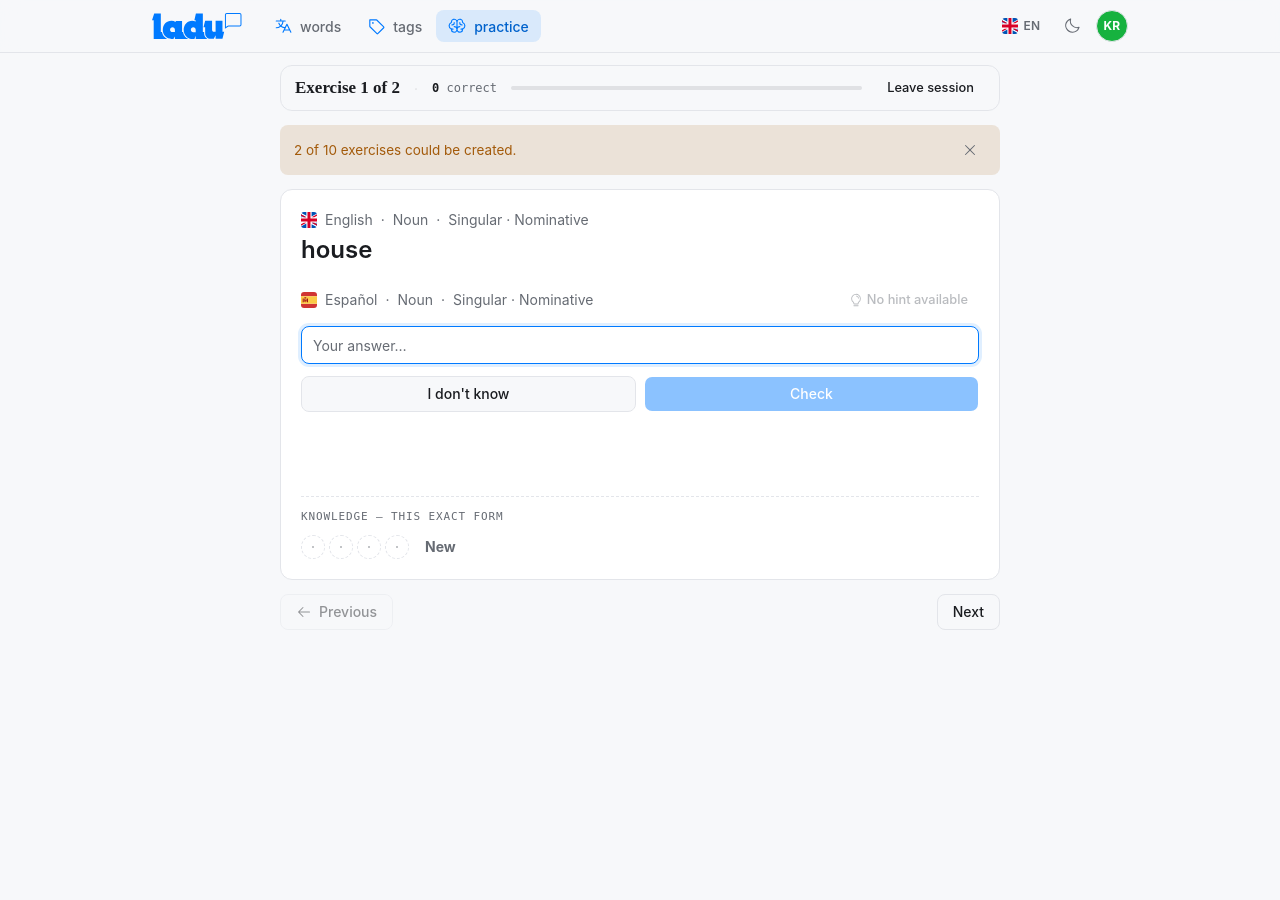
SessionView — typed answers › marks a correct answer, saves it, and moves focus to Next
Type "casa" into the field labelled "Your answer" at (640, 345), box left=302, top=327, right=978, bottom=363
Then press Enter
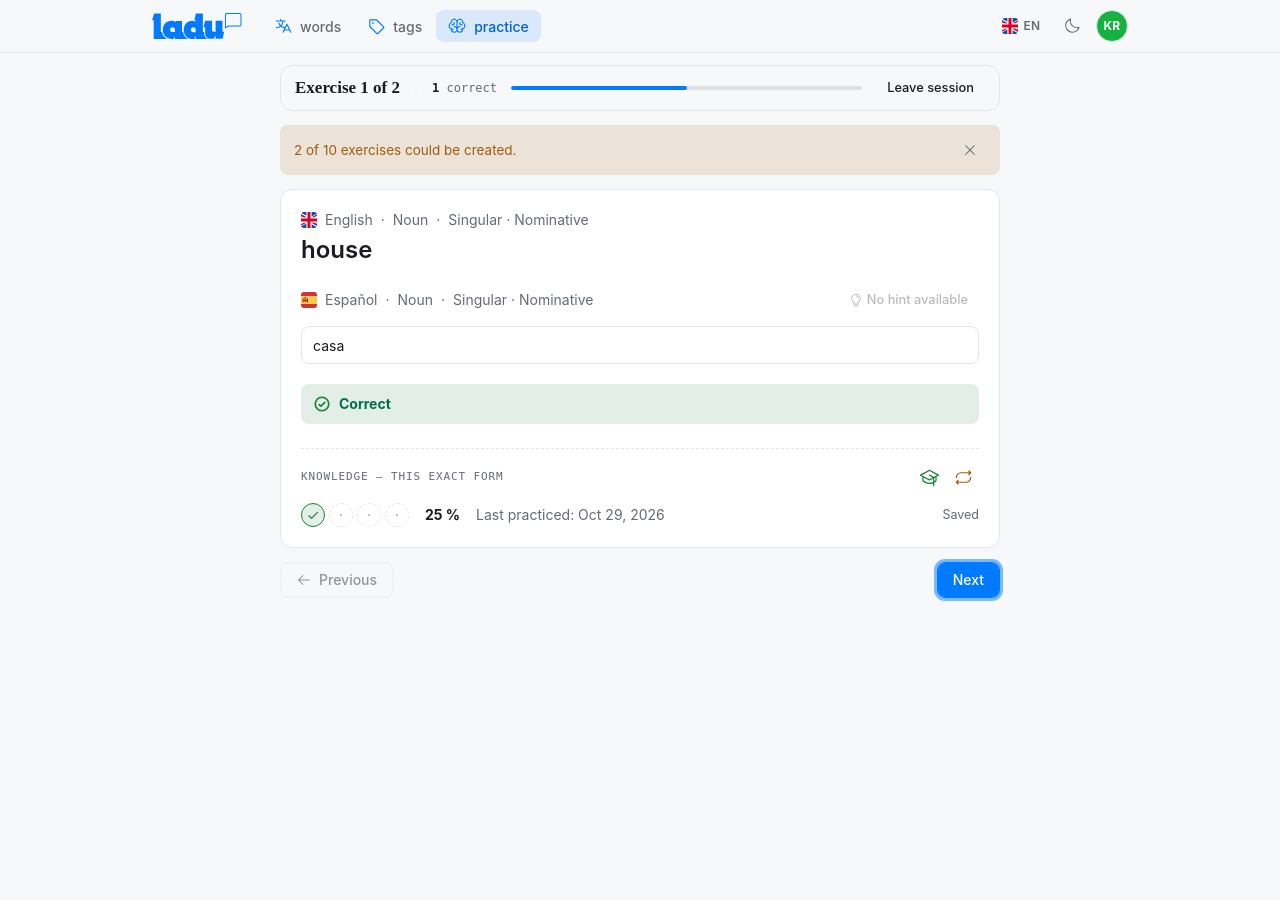
Check: the text "Correct" is shown, box left=313, top=395, right=391, bottom=413
Check: the text "Saved" is shown, box left=942, top=506, right=979, bottom=524
